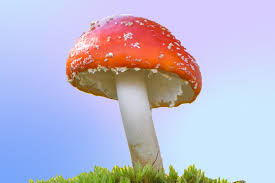Amanita muscaria: (60, 13, 205, 170)
